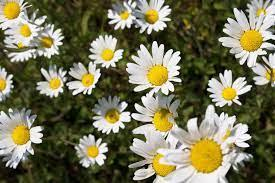chamomile: (177, 126, 233, 182), (138, 137, 179, 181), (229, 21, 269, 58), (0, 116, 36, 157), (142, 101, 176, 136), (212, 78, 247, 106), (94, 101, 128, 129), (67, 67, 101, 93), (0, 0, 32, 25), (137, 1, 166, 28), (9, 18, 41, 42), (96, 40, 120, 65), (112, 3, 135, 26), (42, 71, 63, 95), (249, 3, 273, 24), (78, 143, 103, 163), (34, 33, 56, 55), (258, 60, 275, 87), (0, 68, 12, 105), (9, 45, 34, 60)
